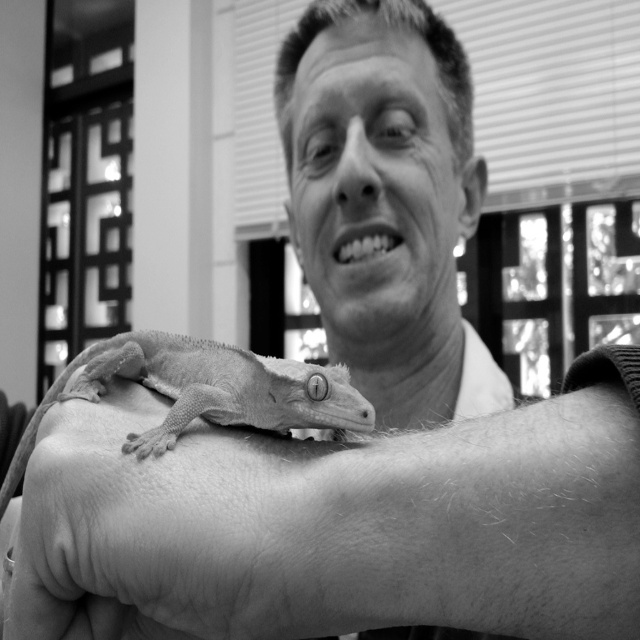Lizard: (0, 324, 374, 525)
